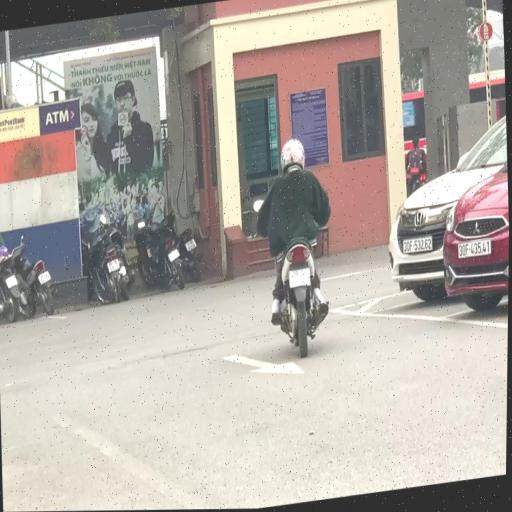bike: (251, 134, 340, 364)
numberplate: (288, 267, 313, 291), (5, 273, 19, 290), (38, 270, 52, 286), (107, 258, 121, 274), (168, 248, 180, 263), (185, 238, 197, 252)
with helmet: (279, 138, 306, 173)
